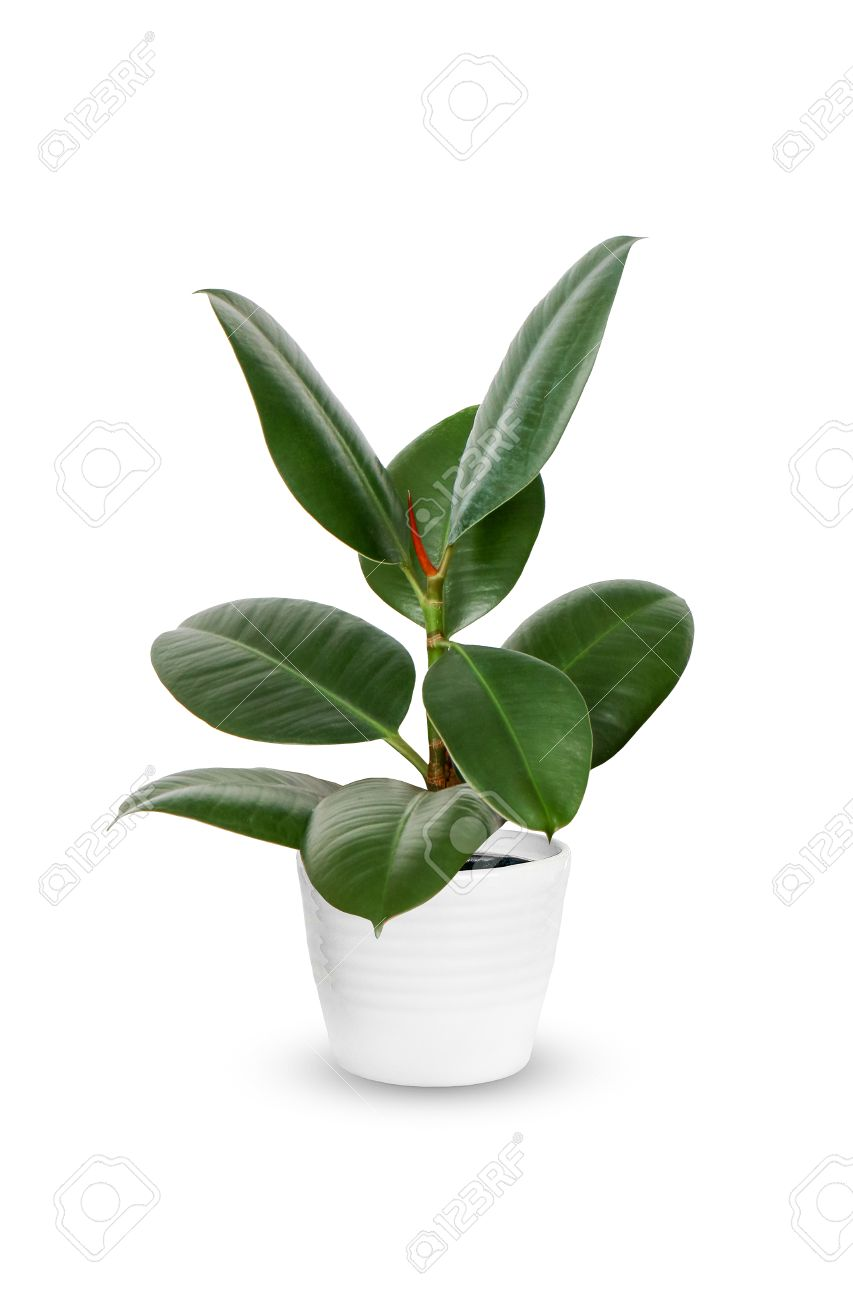tanaman: (139, 241, 680, 1118)
